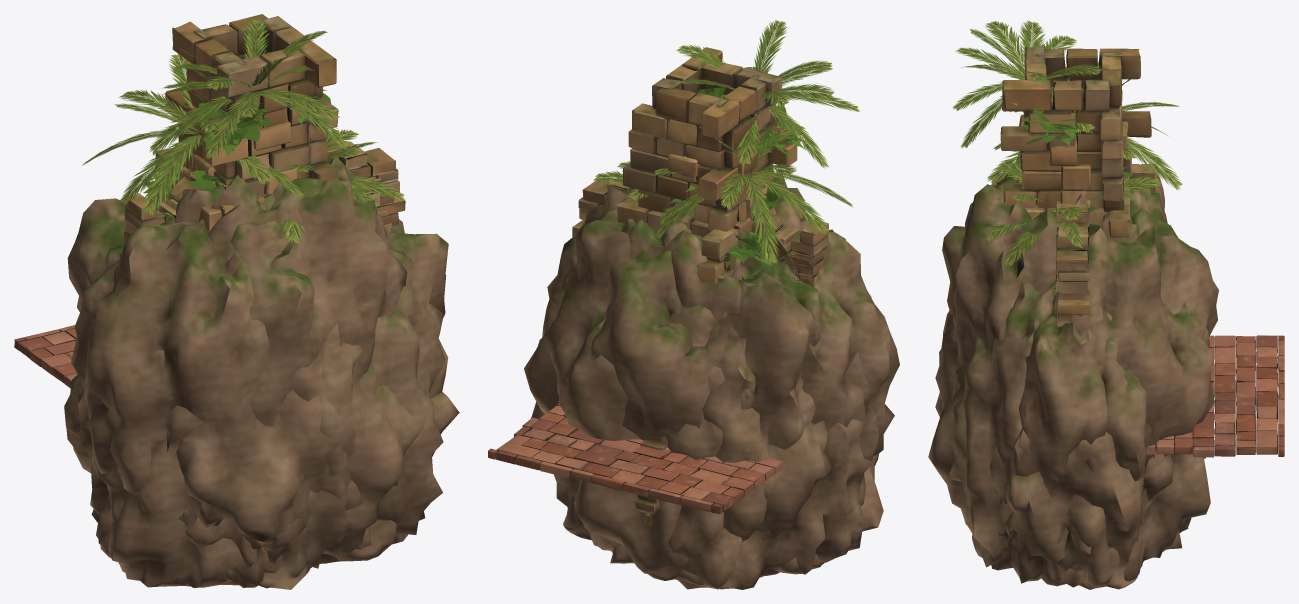
Rendered from kit.glb.
3 views of the same model, side by side, from view 1: azimuth 30°, elevation 25°; view 2: azimuth 150°, elevation 25°; view 3: azimuth 270°, elevation 25° (orthographic). The views are drawn at different scales.
Parts seen in each view (by area): view 1: rock_big_0, rock_big_2, rock_big_1, tower_1, palm_2_crown, palm_1_crown, arch_1, floor_wide_0, palm_0_crown, tower_0, jungle_1_crown, arch_0 (+1 smaller); view 2: rock_big_1, rock_big_0, tower_1, rock_big_2, floor_wide_0, palm_2_crown, palm_1_crown, tower_0, arch_1, jungle_0_crown, jungle_1_crown, arch_0 (+1 smaller); view 3: rock_big_0, rock_big_1, rock_big_2, tower_1, floor_wide_0, palm_2_crown, tower_0, arch_1, palm_0_crown, palm_1_crown, jungle_1_crown, arch_0.
Part boxes in pixels (bbox=[...]): rock_big_0: bbox=[71, 140, 459, 589]; rock_big_2: bbox=[71, 185, 445, 587]; rock_big_1: bbox=[64, 156, 448, 584]; tower_1: bbox=[165, 14, 338, 231]; palm_2_crown: bbox=[149, 20, 348, 159]; palm_1_crown: bbox=[82, 53, 304, 215]; arch_1: bbox=[124, 141, 399, 243]; floor_wide_0: bbox=[14, 325, 76, 388]; palm_0_crown: bbox=[217, 129, 405, 243]; tower_0: bbox=[155, 105, 297, 231]; jungle_1_crown: bbox=[194, 78, 331, 158]; arch_0: bbox=[158, 169, 405, 231]; rock_big_1: bbox=[542, 205, 872, 589]; rock_big_0: bbox=[531, 172, 899, 574]; tower_1: bbox=[622, 47, 802, 284]; rock_big_2: bbox=[524, 192, 883, 589]; floor_wide_0: bbox=[488, 404, 782, 514]; palm_2_crown: bbox=[676, 20, 859, 168]; palm_1_crown: bbox=[653, 122, 853, 265]; tower_0: bbox=[617, 150, 766, 284]; arch_1: bbox=[578, 174, 828, 287]; jungle_0_crown: bbox=[656, 175, 800, 269]; jungle_1_crown: bbox=[686, 87, 804, 191]; arch_0: bbox=[572, 194, 809, 284]; rock_big_0: bbox=[935, 152, 1214, 589]; rock_big_1: bbox=[935, 134, 1218, 586]; rock_big_2: bbox=[928, 174, 1180, 586]; tower_1: bbox=[1000, 45, 1151, 242]; floor_wide_0: bbox=[1145, 335, 1284, 457]; palm_2_crown: bbox=[953, 20, 1102, 148]; tower_0: bbox=[1016, 115, 1156, 237]; arch_1: bbox=[1055, 200, 1090, 326]; palm_0_crown: bbox=[984, 162, 1161, 265]; palm_1_crown: bbox=[987, 79, 1182, 190]; jungle_1_crown: bbox=[1000, 88, 1128, 190]; arch_0: bbox=[1056, 239, 1089, 323].
Bounding box in the file's own units: 14.7 × 21.27 × 13.47.
Materials: 8 (8 with a texture image).
